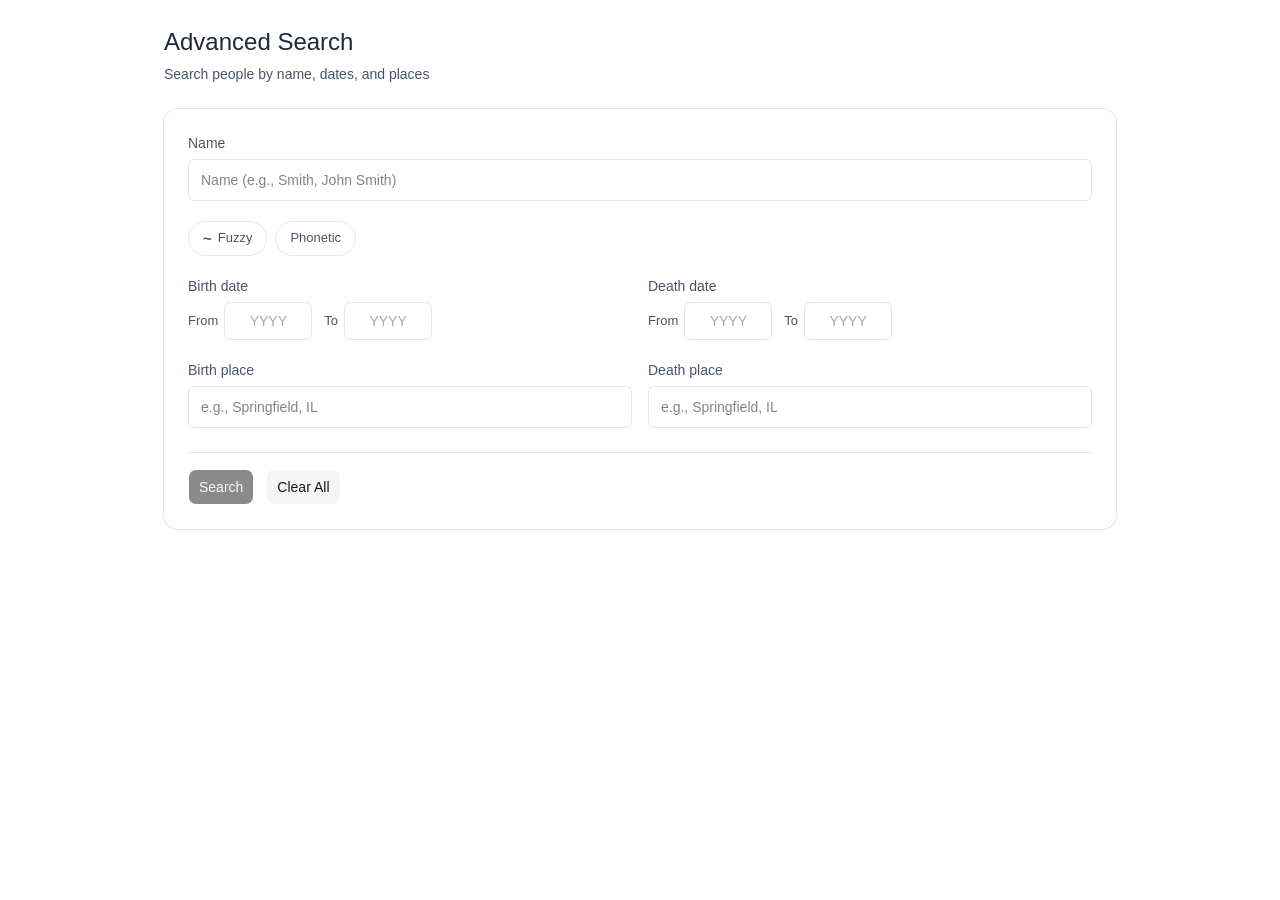
Advanced Search Page › Search Execution › results displayed after search completes
Type "Smith" into the field with placeholder "Name (e.g., Smith, John Smith)" at (640, 180), box top-left (188, 159), bottom-right (1092, 201)
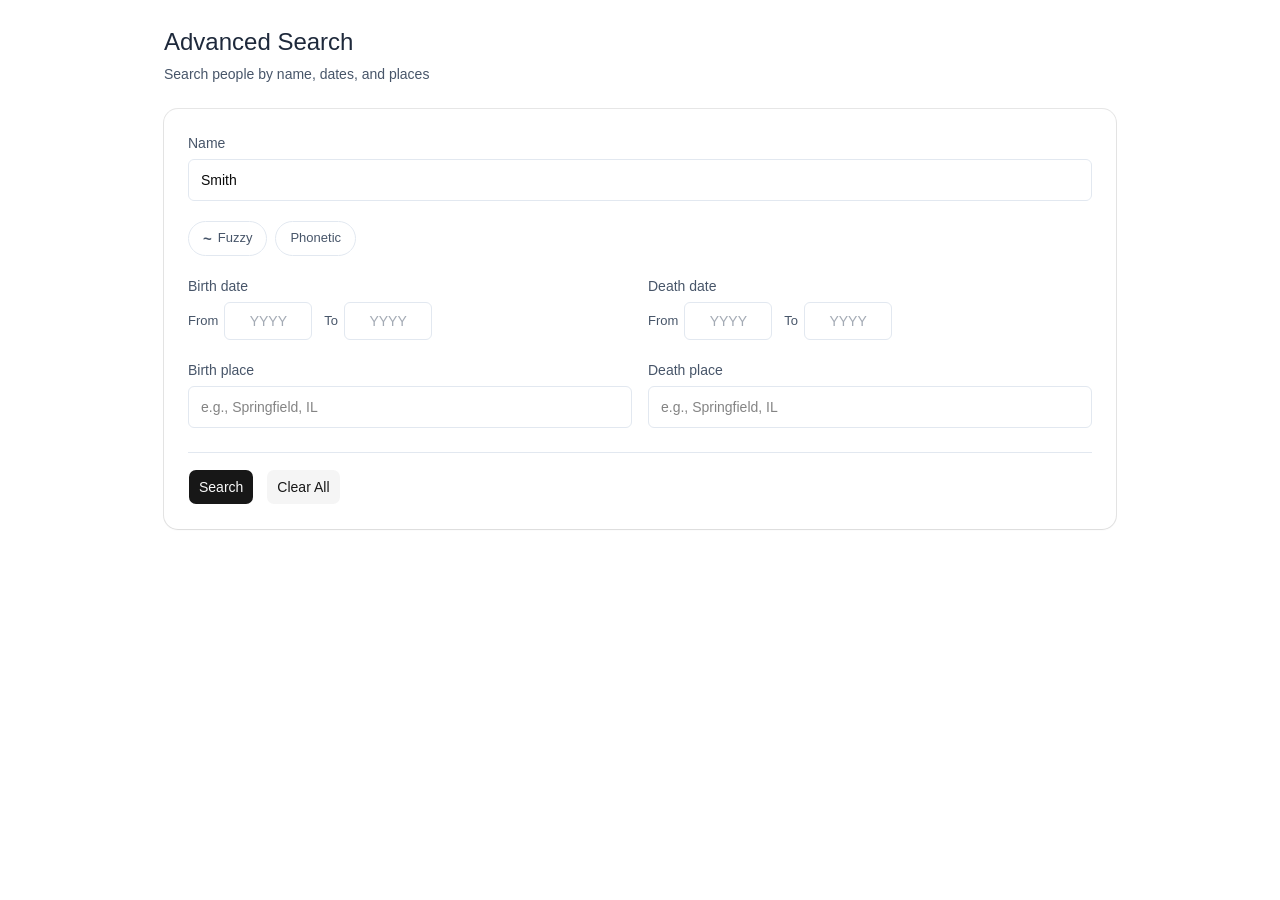
Click the button "Search" at (221, 487), box top-left (188, 469), bottom-right (254, 505)
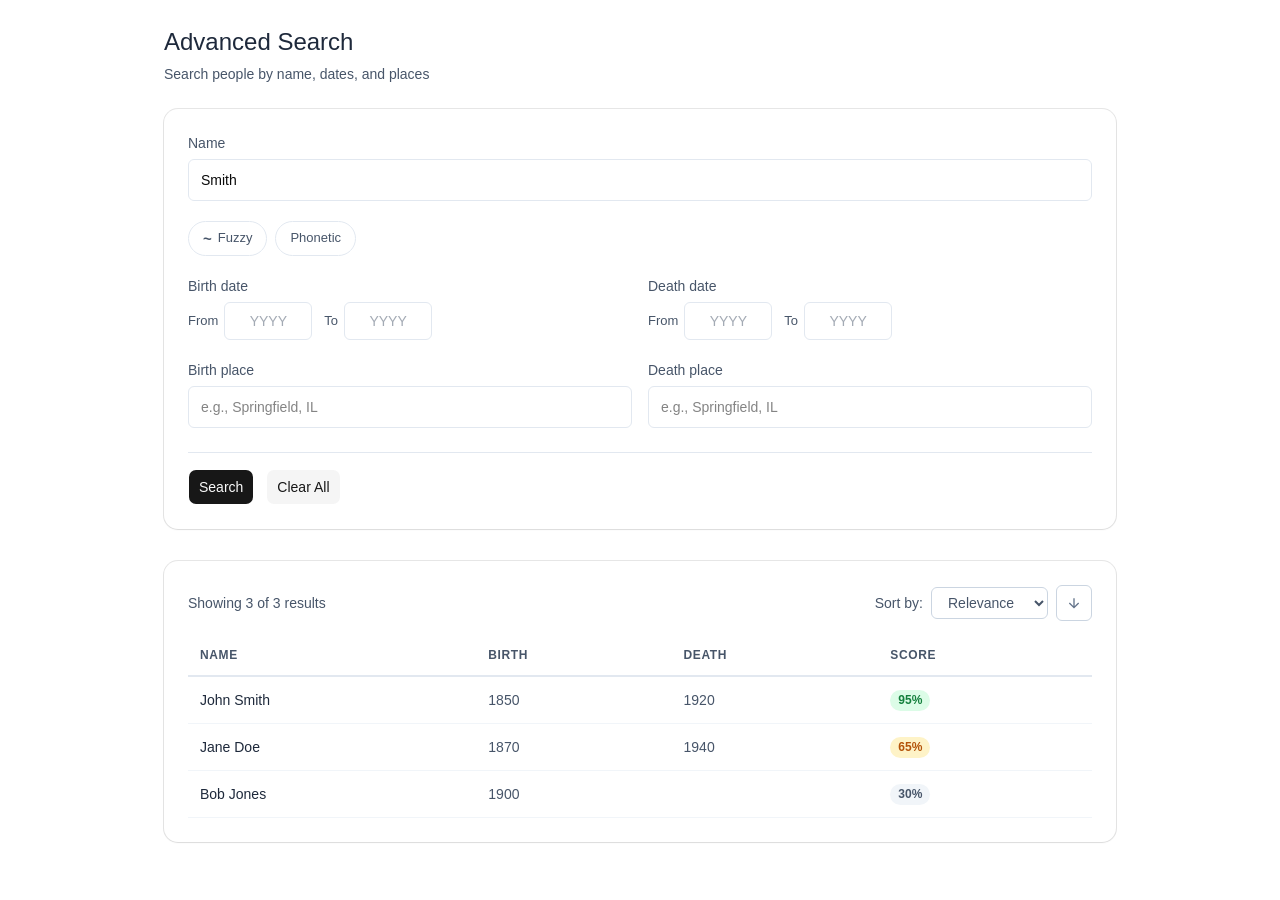
Expected: the text "Showing 3 of 3 results" is shown, top-left (188, 593), bottom-right (326, 613)
